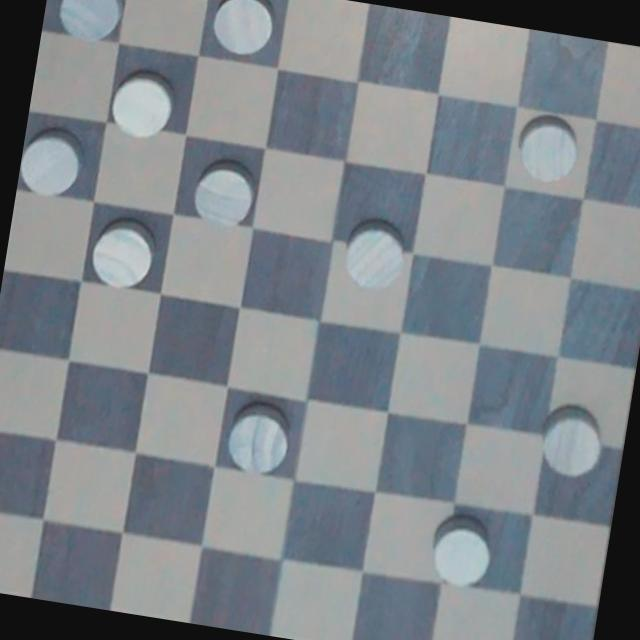BOARD: (0, 0, 640, 640)
white: (529, 388, 630, 496), (337, 202, 440, 304), (184, 148, 268, 240), (81, 213, 163, 304), (216, 398, 301, 481), (509, 110, 596, 187), (426, 508, 498, 598), (16, 122, 91, 204), (108, 69, 183, 146), (201, 0, 289, 63), (48, 0, 129, 50)
